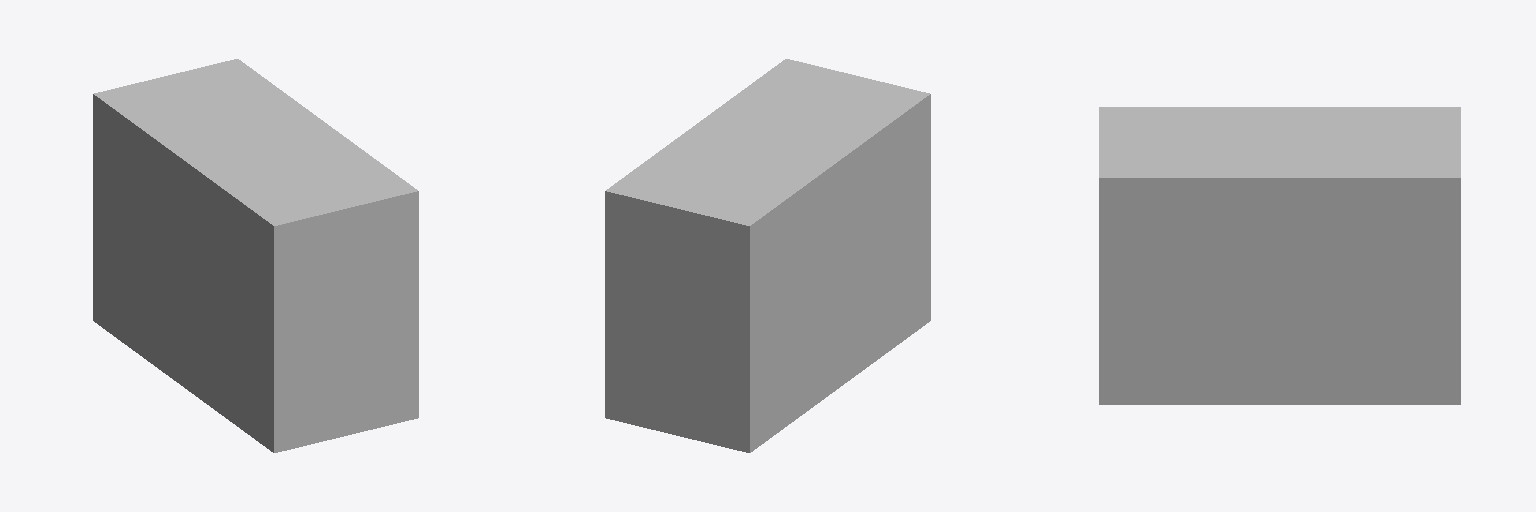
Rendered from hanging locker.obj.
The picture shows the model from 3 angles: view 1: azimuth 30°, elevation 25°; view 2: azimuth 150°, elevation 25°; view 3: azimuth 270°, elevation 25°; orthographic projection.
Size of the model in its own units: 6 by 9 by 13.